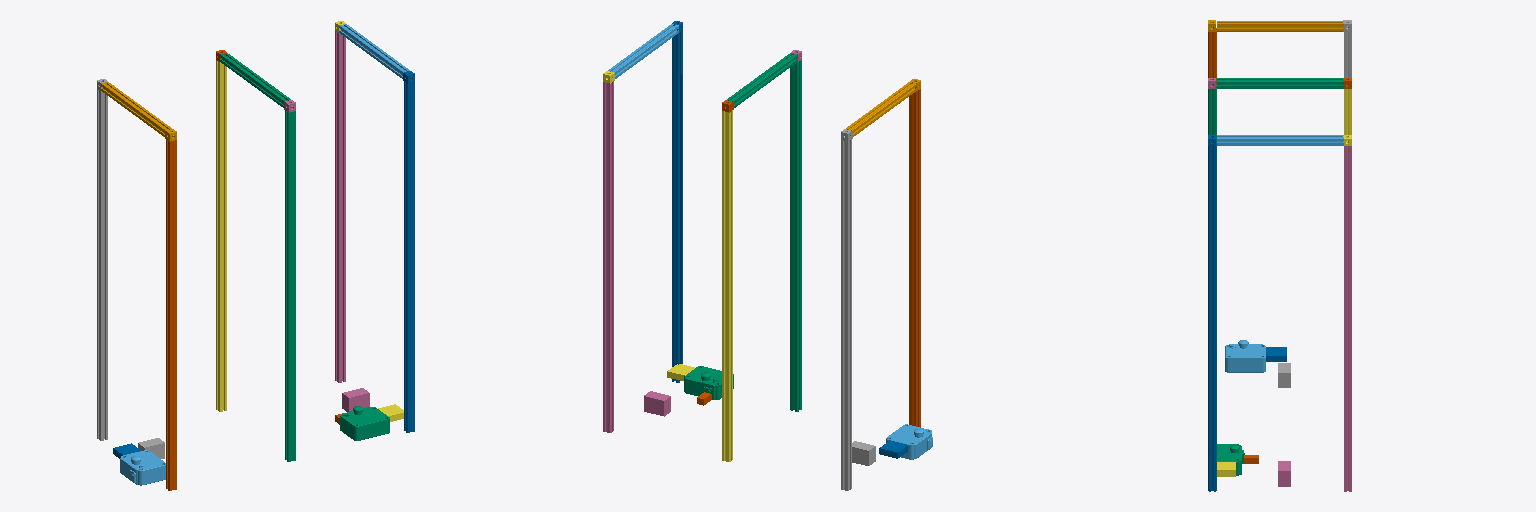
robot.urdf — environment:
<?xml version="1.0" encoding="utf-8"?>

<robot name="environment">
  <!-- Everything in the env is defined wrt the center of the breadboard -->
  <link name="world"/>
  
  <!-- Breadboard -->
  <link name="breadboard">
    <visual>
      <origin xyz="0 0 0" rpy="0 0 0" />
      <geometry>
        <mesh filename="meshes/MB4590_M.stl" scale="0.001 0.001 0.001" />
      </geometry>
    </visual>
    <collision>
      <origin xyz="0 0 0" rpy="0 0 0" />
      <geometry>
        <mesh filename="meshes/MB4590_M.stl" scale="0.001 0.001 0.001" />
      </geometry>
    </collision>
  </link>
  
  <joint name="world_to_breadboard" type="fixed">
    <parent link="world"/>
    <child link="breadboard"/>
    <origin xyz="0 0 -.0127" rpy="1.570796 0 0"/>
  </joint>
  
  <!-- ====================== TALL RAILS =====================================-->
  <!-- Middle tall rail in -y dir (closest to us) -->
  <link name="tall_rail_middle_front">
    <visual>
      <origin xyz="0 0 0" rpy="0 0 0" />
      <geometry>
        <mesh filename="meshes/1125mm_construction_rail.stl" scale="0.001 0.001 0.001" />
      </geometry>
    </visual>
    <collision>
      <origin xyz="0 0 0" rpy="0 0 0" />
      <geometry>
        <mesh filename="meshes/1125mm_construction_rail.stl" scale="0.001 0.001 0.001" />
      </geometry>
    </collision>
  </link>
  
  <!-- (1.5)*25  in the +x dir, 8.5(25mm) in the -y dir; BUT convert to meters -->
  <!-- Compute the translation/shift first, then the rotation.-->
  <!-- object's local frame defined in the middle of obj, so need to-->
  <!-- do 1125/2 shift upwards in the local frame so not in z middle of breadboard-->
  <joint name="breadboard_to_tall_rail_middle_front" type="fixed">
    <parent link="breadboard"/>
    <child link="tall_rail_middle_front"/>
    <origin xyz=".0375 .5625 .2125" rpy="1.570796 0 0"/>
  </joint>
  
<!-- Middle tall rail in +y dir wrt world frame. (farthest from us) -->
  <link name="tall_rail_middle_back">
    <visual>
      <origin xyz="0 0 0" rpy="0 0 0" />
      <geometry>
        <mesh filename="meshes/1125mm_construction_rail.stl" scale="0.001 0.001 0.001" />
      </geometry>
    </visual>
    <collision>
      <origin xyz="0 0 0" rpy="0 0 0" />
      <geometry>
        <mesh filename="meshes/1125mm_construction_rail.stl" scale="0.001 0.001 0.001" />
      </geometry>
    </collision>
  </link>
  
  <joint name="breadboard_to_tall_rail_middle_back" type="fixed">
    <parent link="breadboard"/>
    <child link="tall_rail_middle_back"/>
    <origin xyz=".0375 .5625 -.1875" rpy="1.570796 0 0"/>
  </joint>
  
  <!-- Right (+x wrt world, -y) front tall rail -->
  <link name="tall_rail_right_front">
    <visual>
      <origin xyz="0 0 0" rpy="0 0 0" />
      <geometry>
        <mesh filename="meshes/1125mm_construction_rail.stl" scale="0.001 0.001 0.001" />
      </geometry>
    </visual>
    <collision>
      <origin xyz="0 0 0" rpy="0 0 0" />
      <geometry>
        <mesh filename="meshes/1125mm_construction_rail.stl" scale="0.001 0.001 0.001" />
      </geometry>
    </collision>
  </link>
  
  <!-- 17.5(25 mm)) Note-25 mm is spacing between the holes on breadboard. -->
  <joint name="breadboard_to_tall_rail_right_front" type="fixed">
    <parent link="breadboard"/>
    <child link="tall_rail_right_front"/>
    <origin xyz=".4375 .5625 .2125" rpy="1.570796 0 0"/>
  </joint>
  
    <!-- Left (-x wrt world, -y) front tall rail -->
  <link name="tall_rail_left_front">
    <visual>
      <origin xyz="0 0 0" rpy="0 0 0" />
      <geometry>
        <mesh filename="meshes/1125mm_construction_rail.stl" scale="0.001 0.001 0.001" />
      </geometry>
    </visual>
    <collision>
      <origin xyz="0 0 0" rpy="0 0 0" />
      <geometry>
        <mesh filename="meshes/1125mm_construction_rail.stl" scale="0.001 0.001 0.001" />
      </geometry>
    </collision>
  </link>
  
  <!-- 14.5(25 mm)) Note-25 mm is spacing between the holes on breadboard. -->
  <joint name="breadboard_to_tall_rail_left_front" type="fixed">
    <parent link="breadboard"/>
    <child link="tall_rail_left_front"/>
    <origin xyz="-.3625 .5625 .2125" rpy="1.570796 0 0"/>
  </joint>
  
    <!-- Right (+x wrt world, +y) back tall rail -->
  <link name="tall_rail_right_back">
    <visual>
      <origin xyz="0 0 0" rpy="0 0 0" />
      <geometry>
        <mesh filename="meshes/1125mm_construction_rail.stl" scale="0.001 0.001 0.001" />
      </geometry>
    </visual>
    <collision>
      <origin xyz="0 0 0" rpy="0 0 0" />
      <geometry>
        <mesh filename="meshes/1125mm_construction_rail.stl" scale="0.001 0.001 0.001" />
      </geometry>
    </collision>
  </link>
  
  <joint name="breadboard_to_tall_rail_right_back" type="fixed">
    <parent link="breadboard"/>
    <child link="tall_rail_right_back"/>
    <origin xyz=".4375 .5625 -.1875" rpy="1.570796 0 0"/>
  </joint>
  
    <!-- Left (-x wrt world, +y) back tall rail -->
  <link name="tall_rail_left_back">
    <visual>
      <origin xyz="0 0 0" rpy="0 0 0" />
      <geometry>
        <mesh filename="meshes/1125mm_construction_rail.stl" scale="0.001 0.001 0.001" />
      </geometry>
    </visual>
    <collision>
      <origin xyz="0 0 0" rpy="0 0 0" />
      <geometry>
        <mesh filename="meshes/1125mm_construction_rail.stl" scale="0.001 0.001 0.001" />
      </geometry>
    </collision>
  </link>
  
  <joint name="breadboard_to_tall_rail_left_back" type="fixed">
    <parent link="breadboard"/>
    <child link="tall_rail_left_back"/>
    <origin xyz="-.3625 .5625 -.1875" rpy="1.570796 0 0"/>
  </joint>

  <!-- ================= UPPER RAILS ==================================-->
  <!-- Left (-x wrt world, +y, +z) short rail -->
  <link name="left_short_rail">
    <visual>
      <origin xyz="0 0 0" rpy="0 0 0" />
      <geometry>
        <mesh filename="meshes/375mm_construction_rail.stl" scale="0.001 0.001 0.001" />
      </geometry>
    </visual>
    <collision>
      <origin xyz="0 0 0" rpy="0 0 0" />
      <geometry>
        <mesh filename="meshes/375mm_construction_rail.stl" scale="0.001 0.001 0.001" />
      </geometry>
    </collision>
  </link>
  
  <joint name="breadboard_to_left_short_rail" type="fixed">
    <parent link="breadboard"/>
    <child link="left_short_rail"/>
    <origin xyz="-.3625 1.1377 .0125" rpy="0 0 0"/>
  </joint>

    <!-- Right (+x wrt world, +y, +z) short rail -->
  <link name="right_short_rail">
    <visual>
      <origin xyz="0 0 0" rpy="0 0 0" />
      <geometry>
        <mesh filename="meshes/375mm_construction_rail.stl" scale="0.001 0.001 0.001" />
      </geometry>
    </visual>
    <collision>
      <origin xyz="0 0 0" rpy="0 0 0" />
      <geometry>
        <mesh filename="meshes/375mm_construction_rail.stl" scale="0.001 0.001 0.001" />
      </geometry>
    </collision>
  </link>
  
  <joint name="breadboard_to_right_short_rail" type="fixed">
    <parent link="breadboard"/>
    <child link="right_short_rail"/>
    <origin xyz=".4375 1.1377 .0125" rpy="0 0 0"/>
  </joint>

    <!-- Middle (+x wrt world, +y, +z) short rail -->
  <link name="middle_short_rail">
    <visual>
      <origin xyz="0 0 0" rpy="0 0 0" />
      <geometry>
        <mesh filename="meshes/375mm_construction_rail.stl" scale="0.001 0.001 0.001" />
      </geometry>
    </visual>
    <collision>
      <origin xyz="0 0 0" rpy="0 0 0" />
      <geometry>
        <mesh filename="meshes/375mm_construction_rail.stl" scale="0.001 0.001 0.001" />
      </geometry>
    </collision>
  </link>
  
  <joint name="middle_breadboard_to_short_rail" type="fixed">
    <parent link="breadboard"/>
    <child link="middle_short_rail"/>
    <origin xyz=".0375 1.1377 .0125" rpy="0 0 0"/>
  </joint>

  <!-- ============= CONSTRUCTION CUBES ===================-->
  <!-- Right back (+x wrt world, +y, -z) construction cube -->
  <link name="right_construction_back_cube">
    <visual>
      <origin xyz="0 0 0" rpy="0 0 0" />
      <geometry>
        <mesh filename="meshes/construction_cube.stl" scale="0.001 0.001 0.001" />
      </geometry>
    </visual>
    <collision>
      <origin xyz="0 0 0" rpy="0 0 0" />
      <geometry>
        <mesh filename="meshes/construction_cube.stl" scale="0.001 0.001 0.001" />
      </geometry>
    </collision>
  </link>
  
  <joint name="breadboard_to_construction_back_cube" type="fixed">
    <parent link="breadboard"/>
    <child link="right_construction_back_cube"/>
    <origin xyz=".4875 1.0996 -.1875" rpy="0 0 0"/>
  </joint>

    <!-- Right (+x wrt world, +y, +z) front construction cube -->
  <link name="right_construction_front_cube">
    <visual>
      <origin xyz="0 0 0" rpy="0 0 0" />
      <geometry>
        <mesh filename="meshes/construction_cube.stl" scale="0.001 0.001 0.001" />
      </geometry>
    </visual>
    <collision>
      <origin xyz="0 0 0" rpy="0 0 0" />
      <geometry>
        <mesh filename="meshes/construction_cube.stl" scale="0.001 0.001 0.001" />
      </geometry>
    </collision>
  </link>
  
  <joint name="breadboard_to_right_construction_front_cube" type="fixed">
    <parent link="breadboard"/>
    <child link="right_construction_front_cube"/>
    <origin xyz=".4875 1.0996 .2125" rpy="0 0 0"/>
  </joint>

    <!-- Middle back (+x wrt world, +y, -z) construction cube -->
  <link name="middle_construction_back_cube">
    <visual>
      <origin xyz="0 0 0" rpy="0 0 0" />
      <geometry>
        <mesh filename="meshes/construction_cube.stl" scale="0.001 0.001 0.001" />
      </geometry>
    </visual>
    <collision>
      <origin xyz="0 0 0" rpy="0 0 0" />
      <geometry>
        <mesh filename="meshes/construction_cube.stl" scale="0.001 0.001 0.001" />
      </geometry>
    </collision>
  </link>
  
  <joint name="breadboard_to_construction_middle_cube" type="fixed">
    <parent link="breadboard"/>
    <child link="middle_construction_back_cube"/>
    <origin xyz=".0875 1.0996 -.1875" rpy="0 0 0"/>
  </joint>

    <!-- Middle (+x wrt world, +y, +z) front construction cube -->
  <link name="middle_construction_front_cube">
    <visual>
      <origin xyz="0 0 0" rpy="0 0 0" />
      <geometry>
        <mesh filename="meshes/construction_cube.stl" scale="0.001 0.001 0.001" />
      </geometry>
    </visual>
    <collision>
      <origin xyz="0 0 0" rpy="0 0 0" />
      <geometry>
        <mesh filename="meshes/construction_cube.stl" scale="0.001 0.001 0.001" />
      </geometry>
    </collision>
  </link>
  
  <joint name="breadboard_to_middle_construction_front_cube" type="fixed">
    <parent link="breadboard"/>
    <child link="middle_construction_front_cube"/>
    <origin xyz=".0875 1.0996 .2125" rpy="0 0 0"/>
  </joint>

    <!-- Left back (-x wrt world, +y, -z) construction cube -->
  <link name="left_construction_back_cube">
    <visual>
      <origin xyz="0 0 0" rpy="0 0 0" />
      <geometry>
        <mesh filename="meshes/construction_cube.stl" scale="0.001 0.001 0.001" />
      </geometry>
    </visual>
    <collision>
      <origin xyz="0 0 0" rpy="0 0 0" />
      <geometry>
        <mesh filename="meshes/construction_cube.stl" scale="0.001 0.001 0.001" />
      </geometry>
    </collision>
  </link>
  
  <joint name="breadboard_to_construction_left_cube" type="fixed">
    <parent link="breadboard"/>
    <child link="left_construction_back_cube"/>
    <origin xyz="-.3125 1.0996 -.1875" rpy="0 0 0"/>
  </joint>

    <!-- Left (-x wrt world, +y, +z) front construction cube -->
  <link name="left_construction_front_cube">
    <visual>
      <origin xyz="0 0 0" rpy="0 0 0" />
      <geometry>
        <mesh filename="meshes/construction_cube.stl" scale="0.001 0.001 0.001" />
      </geometry>
    </visual>
    <collision>
      <origin xyz="0 0 0" rpy="0 0 0" />
      <geometry>
        <mesh filename="meshes/construction_cube.stl" scale="0.001 0.001 0.001" />
      </geometry>
    </collision>
  </link>
  
  <joint name="breadboard_to_left_construction_front_cube" type="fixed">
    <parent link="breadboard"/>
    <child link="left_construction_front_cube"/>
    <origin xyz="-.3125 1.0996 .2125" rpy="0 0 0"/>
  </joint>

  <!-- ===============  POWER SUPPLY BOXES  =====================================-->
  <!-- Left (-x wrt world, +z) power supply box -->
  <link name="left_power_box">
    <visual>
      <origin xyz="0 0 0" rpy="0 0 0" />
      <geometry>
        <mesh filename="meshes/Power supply simple.stl" scale="0.001 0.001 0.001" />
      </geometry>
    </visual>
    <collision>
      <origin xyz="0 0 0" rpy="0 0 0" />
      <geometry>
        <mesh filename="meshes/Power supply simple.stl" scale="0.001 0.001 0.001" />
      </geometry>
    </collision>
  </link>
  
  <joint name="breadboard_to_left_power_box" type="fixed">
    <parent link="breadboard"/>
    <child link="left_power_box"/>
    <origin xyz="-.3125 0 .175" rpy="0 0 0"/>
  </joint>

    <!-- Right (+x wrt world, +z) power supply box -->
  <link name="right_power_box">
    <visual>
      <origin xyz="0 0 0" rpy="0 0 0" />
      <geometry>
        <mesh filename="meshes/Power supply simple.stl" scale="0.001 0.001 0.001" />
      </geometry>
    </visual>
    <collision>
      <origin xyz="0 0 0" rpy="0 0 0" />
      <geometry>
        <mesh filename="meshes/Power supply simple.stl" scale="0.001 0.001 0.001" />
      </geometry>
    </collision>
  </link>
  
  <!-- After rotating, moved half of a space (.5*.025=.0125 meters) in -y dir + .025*10 spaces in -y. -->
  <joint name="breadboard_to_right_power_box" type="fixed">
    <parent link="breadboard"/>
    <child link="right_power_box"/>
    <origin xyz=".25 0 .2625" rpy="0 -1.570796 0"/>
  </joint>

  
  <!-- ======================CABLE PLUGS COLLISION BOXES=====================================-->
  <!-- A Box representative of the cable plugs exiting the right side of the right power box.-->
  <link name="right_power_box_right_cable_plugs">
    <visual>
      <origin xyz="0 0 0"/>
      <geometry>
        <box size="0.0625 0.02 0.0625" />
      </geometry>
    </visual>
    <collision>
      <origin xyz="0 0 0"/>
      <geometry>
        <box size="0.0625 0.02 0.0625" />
      </geometry>
    </collision>
  </link>
  <joint name="breadboard_to_right_power_box_right_cable_plugs" type="fixed">
    <parent link="breadboard"/>
    <child link="right_power_box_right_cable_plugs"/>
    <origin xyz=".4 .05 .175" rpy="0 0 0"/>
  </joint>
  
  <!-- A Box representative of the cable plugs exiting the right side of the left power box.-->
  <link name="left_power_box_right_cable_plugs">
    <visual>
      <origin xyz="0 0 0"/>
      <geometry>
        <box size="0.0625 0.02 0.0625" />
      </geometry>
    </visual>
    <collision>
      <origin xyz="0 0 0"/>
      <geometry>
        <box size="0.0625 0.02 0.0625" />
      </geometry>
    </collision>
  </link>
  <joint name="breadboard_to_left_power_box_right_cable_plugs" type="fixed">
    <parent link="breadboard"/>
    <child link="left_power_box_right_cable_plugs"/>
    <origin xyz="-.4 .05 .025" rpy="0 0 0"/>
  </joint>
  
  <!-- A Box representative of the cable plugs exiting the back side of the right power box.-->
  <link name="right_power_box_back_cable_plugs">
    <visual>
      <origin xyz="0 0 0"/>
      <geometry>
        <box size="0.025 0.02 0.05" />
      </geometry>
    </visual>
    <collision>
      <origin xyz="0 0 0"/>
      <geometry>
        <box size="0.025 0.02 0.05" />
      </geometry>
    </collision>
  </link>
  <joint name="breadboard_to_right_power_box_back_cable_plugs" type="fixed">
    <parent link="breadboard"/>
    <child link="right_power_box_back_cable_plugs"/>
    <origin xyz=".2806 .025 .1" rpy="0 0 0"/>
  </joint>
  
  <!-- A Box representative of the cable plugs exiting the back of the right robot (robot2).-->
  <link name="robot2_back_cable_plugs">
    <visual>
      <origin xyz="0 0 0"/>
      <geometry>
        <box size="0.07 0.05 0.04" />
      </geometry>
    </visual>
    <collision>
      <origin xyz="0 0 0"/>
      <geometry>
        <box size="0.07 0.05 0.04" />
      </geometry>
    </collision>
  </link>
  <joint name="breadboard_to_robot2_back_cable_plugs" type="fixed">
    <parent link="breadboard"/>
    <child link="robot2_back_cable_plugs"/>
    <origin xyz="0.38125 0.025 0" rpy="0 0 0"/>
  </joint>
  <!-- 0.375-->
  
  
  <!-- A Box representative of the cable plugs exiting the back of the left robot (robot1).-->
  <link name="robot1_back_cable_plugs">
    <visual>
      <origin xyz="0 0 0"/>
      <geometry>
        <box size="0.07 0.05 0.04" />
      </geometry>
    </visual>
    <collision>
      <origin xyz="0 0 0"/>
      <geometry>
        <box size="0.07 0.05 0.04" />
      </geometry>
    </collision>
  </link>
  <!-- A Box representative of the cable plugs exiting the back of the left robot (robot1).-->
  <joint name="breadboard_to_robot1_back_cable_plugs" type="fixed">
    <parent link="breadboard"/>
    <child link="robot1_back_cable_plugs"/>
    <origin xyz="-0.30625 0.025 0" rpy="0 0 0"/>
  </joint>
  <!-- -0.3125-->
  
  </robot>
  
  
  

--- Facts derived from the render (not from the file) ---
Views: 3 orthographic renders of the robot side by side, from view 1: azimuth 30°, elevation 25°; view 2: azimuth 150°, elevation 25°; view 3: azimuth 270°, elevation 25°.
Robot: environment — 24 links, 23 joints (23 fixed); root link world; default pose: all joints at 0.
Links seen in each view (by area): view 1: tall_rail_middle_front, tall_rail_right_front, tall_rail_left_front, tall_rail_right_back, tall_rail_middle_back, tall_rail_left_back, right_power_box, left_power_box, left_short_rail, right_short_rail, middle_short_rail; view 2: tall_rail_middle_front, tall_rail_left_front, tall_rail_middle_back, tall_rail_right_back, tall_rail_left_back, tall_rail_right_front, right_power_box, left_power_box, middle_short_rail, left_short_rail, right_short_rail, robot2_back_cable_plugs; view 3: tall_rail_right_front, tall_rail_right_back, right_short_rail, left_short_rail, middle_short_rail, left_power_box, right_power_box.
Boxes of the visible links, x1=… form: tall_rail_middle_front: x1=285, y1=110, x2=295, y2=461; tall_rail_right_front: x1=404, y1=81, x2=414, y2=432; tall_rail_left_front: x1=166, y1=139, x2=176, y2=490; tall_rail_right_back: x1=335, y1=31, x2=345, y2=382; tall_rail_middle_back: x1=216, y1=60, x2=226, y2=411; tall_rail_left_back: x1=97, y1=89, x2=107, y2=440; right_power_box: x1=340, y1=406, x2=389, y2=440; left_power_box: x1=120, y1=450, x2=165, y2=485; left_short_rail: x1=101, y1=82, x2=171, y2=136; right_short_rail: x1=339, y1=24, x2=409, y2=78; middle_short_rail: x1=220, y1=53, x2=290, y2=107; tall_rail_middle_front: x1=790, y1=60, x2=801, y2=411; tall_rail_left_front: x1=909, y1=89, x2=920, y2=427; tall_rail_middle_back: x1=722, y1=110, x2=732, y2=461; tall_rail_right_back: x1=603, y1=81, x2=613, y2=432; tall_rail_left_back: x1=841, y1=139, x2=851, y2=490; tall_rail_right_front: x1=672, y1=31, x2=682, y2=382; right_power_box: x1=684, y1=366, x2=733, y2=399; left_power_box: x1=886, y1=424, x2=932, y2=459; middle_short_rail: x1=727, y1=53, x2=797, y2=107; left_short_rail: x1=846, y1=82, x2=916, y2=136; right_short_rail: x1=608, y1=24, x2=678, y2=78; robot2_back_cable_plugs: x1=644, y1=391, x2=670, y2=416; tall_rail_right_front: x1=1208, y1=143, x2=1216, y2=491; tall_rail_right_back: x1=1344, y1=146, x2=1351, y2=491; right_short_rail: x1=1217, y1=135, x2=1343, y2=145; left_short_rail: x1=1217, y1=21, x2=1343, y2=31; middle_short_rail: x1=1217, y1=78, x2=1343, y2=88; left_power_box: x1=1225, y1=340, x2=1265, y2=372; right_power_box: x1=1217, y1=444, x2=1244, y2=475.
Size in the robot's own frame: 0.9088 by 0.4262 by 1.15 metres.
Meshes: 5 distinct files referenced, 17 mesh visuals loaded (1 binary STL, 3 ASCII STL); not drawn: 1 (reference not matched to a file when rendering).